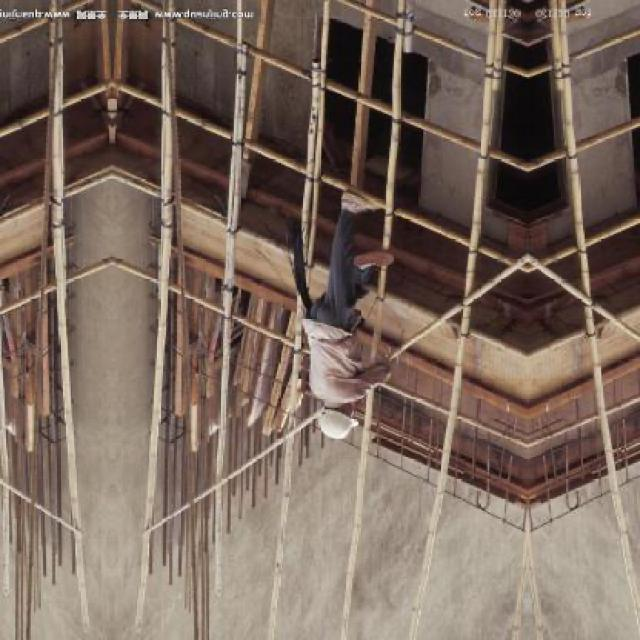con casco: (289, 331, 409, 455)
